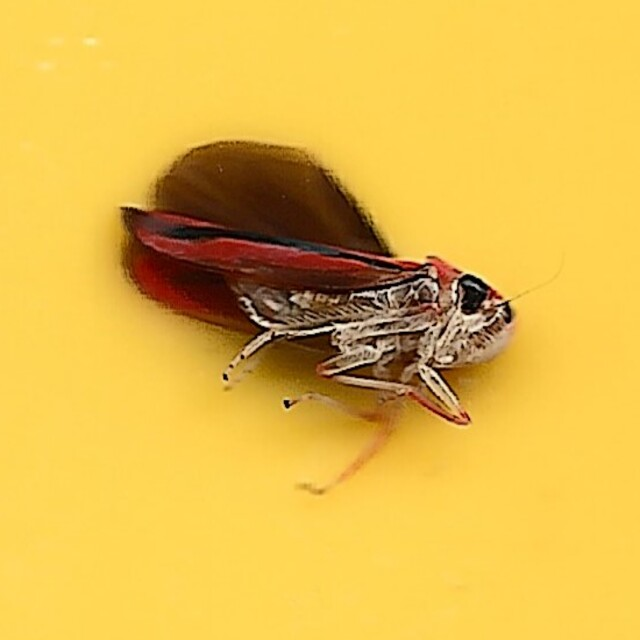Hemiptera: (116, 137, 524, 503)
